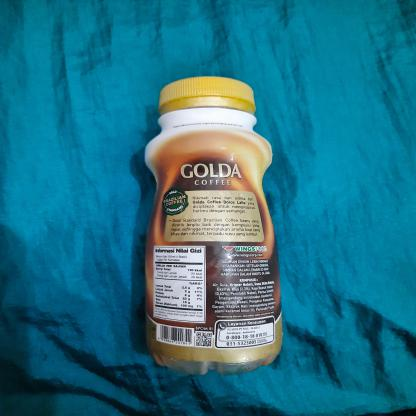bottle: (138, 68, 288, 378)
